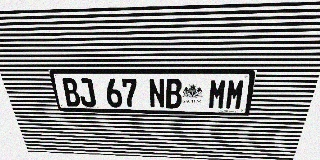6: (104, 78, 123, 107)
7: (120, 78, 139, 108)
B: (61, 78, 81, 107), (165, 79, 182, 108)
J: (76, 78, 96, 107)
M: (225, 79, 246, 110), (208, 79, 227, 109)
N: (148, 79, 165, 108)
